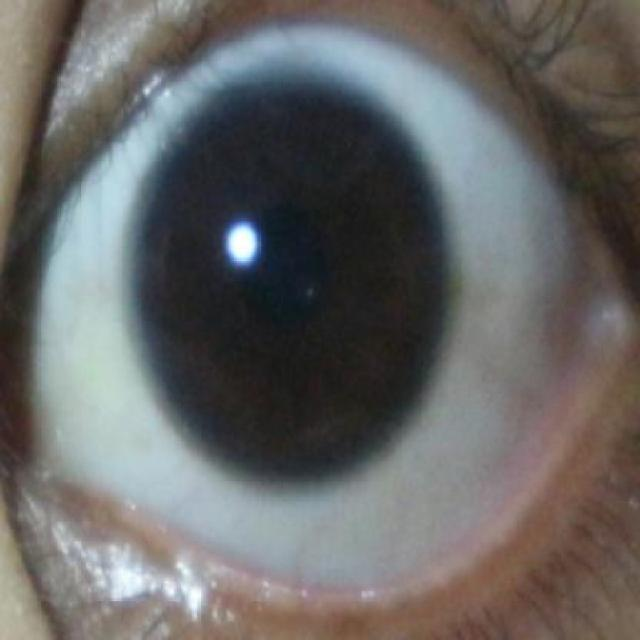Normal: (127, 67, 455, 489)
